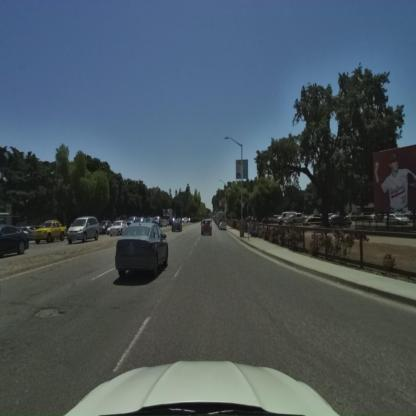car: (115, 221, 170, 282), (0, 224, 30, 261), (66, 217, 99, 245), (32, 221, 66, 245), (279, 210, 306, 224), (107, 221, 125, 235), (100, 221, 110, 234)
person: (374, 152, 415, 221)
